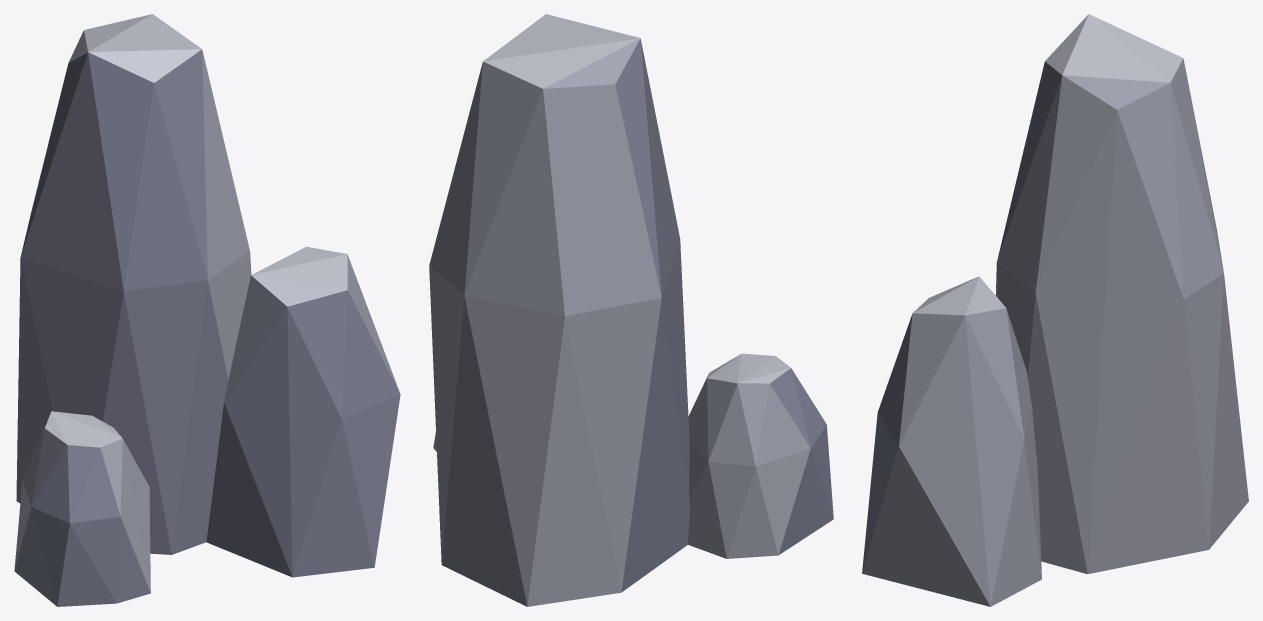
File: stone_tallB.glb
3 renders of one model, left to right at view 1: azimuth 30°, elevation 25°; view 2: azimuth 150°, elevation 25°; view 3: azimuth 270°, elevation 25°, orthographic. The views are drawn at different scales.
Visible parts, largest first — view 1: stone_tallB; view 2: stone_tallB; view 3: stone_tallB.
Part boxes in pixels (x1=…): stone_tallB: x1=14, y1=14, x2=400, y2=606; stone_tallB: x1=429, y1=14, x2=833, y2=606; stone_tallB: x1=862, y1=14, x2=1248, y2=606.
Bounding box in the file's own units: 0.6732 × 0.8762 × 0.6467.
Materials: 1 (1 with a texture image).
